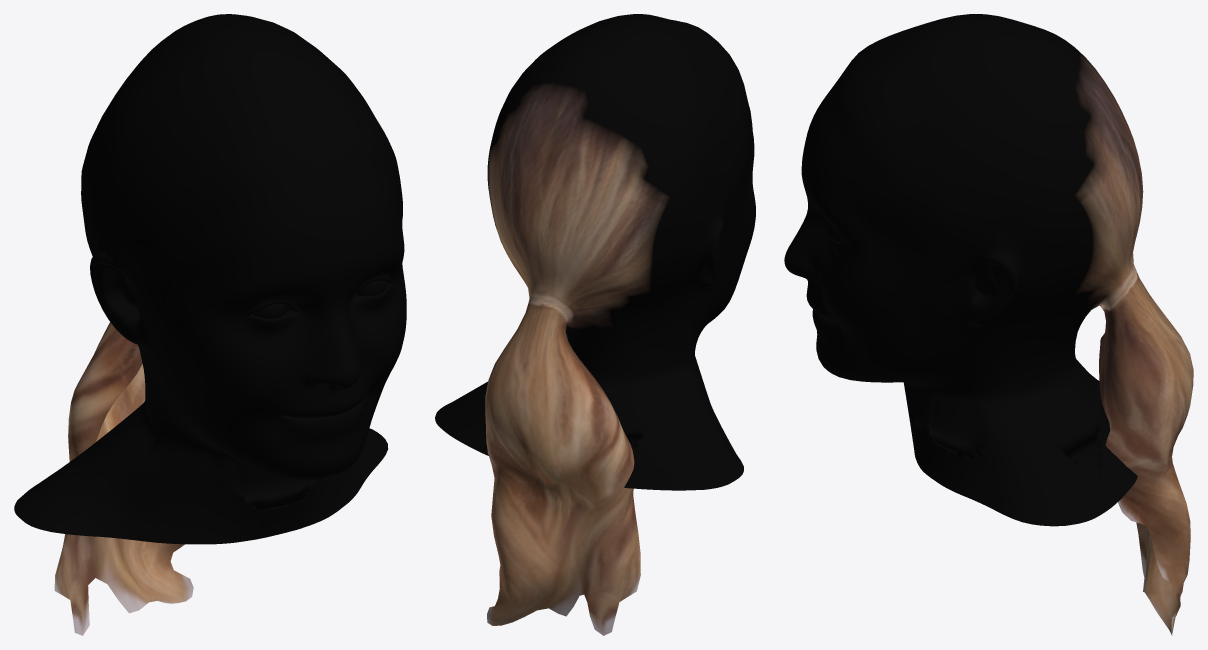
The model's file is scanned-head-female.glb.
3 views of the same model, side by side, from view 1: azimuth 30°, elevation 25°; view 2: azimuth 150°, elevation 25°; view 3: azimuth 270°, elevation 25° (orthographic). The views are drawn at different scales.
Parts seen in each view (by area): view 1: claudia scanned head; view 2: claudia scanned head; view 3: claudia scanned head.
Boxes of the visible parts, bbox=[...] form: claudia scanned head: bbox=[14, 14, 406, 635]; claudia scanned head: bbox=[435, 14, 755, 635]; claudia scanned head: bbox=[784, 14, 1193, 635].
Size of the model in its own units: 0.4542 by 0.801 by 0.5039.
1 material, 1 textured.
